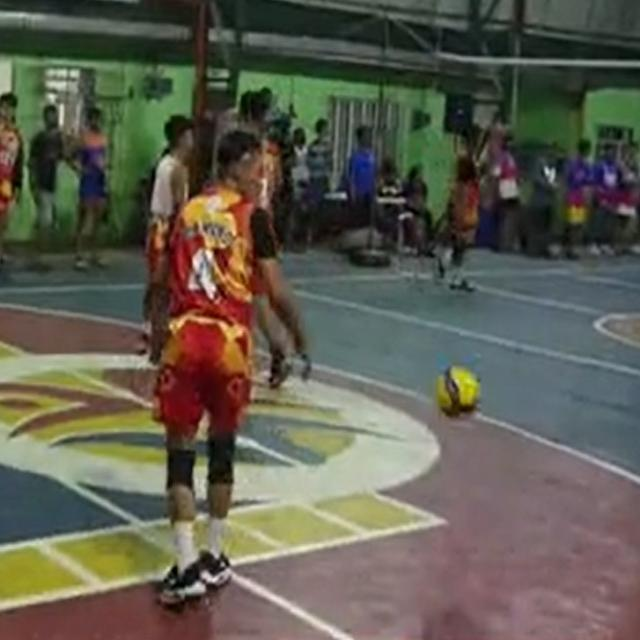volleyball: (435, 364, 482, 422)
